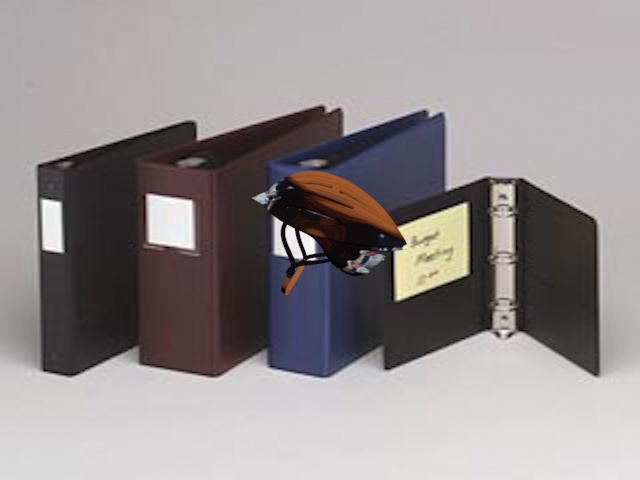bike_helmet: (249, 160, 416, 305)
